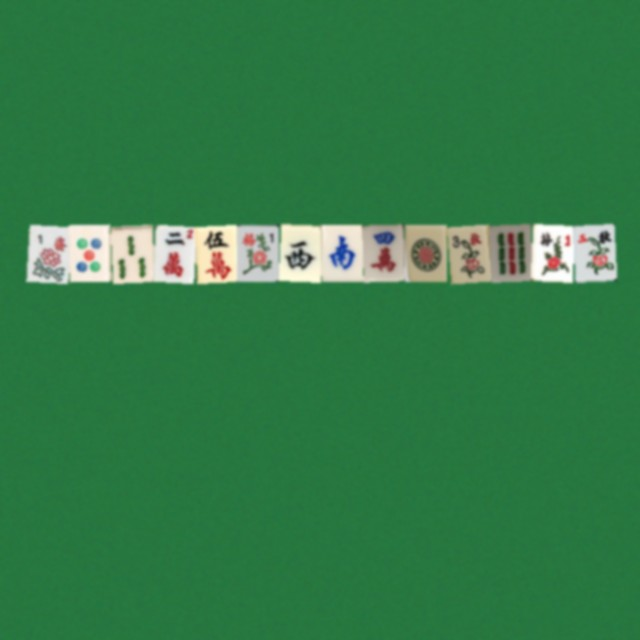tile: (26, 224, 68, 281), (68, 224, 110, 281), (110, 224, 152, 281), (152, 224, 194, 281), (194, 224, 236, 281), (236, 224, 278, 281), (278, 224, 320, 281), (320, 224, 362, 281), (362, 224, 404, 281), (404, 224, 446, 281), (446, 224, 488, 281), (488, 224, 530, 281), (530, 224, 572, 281), (572, 224, 614, 281)
